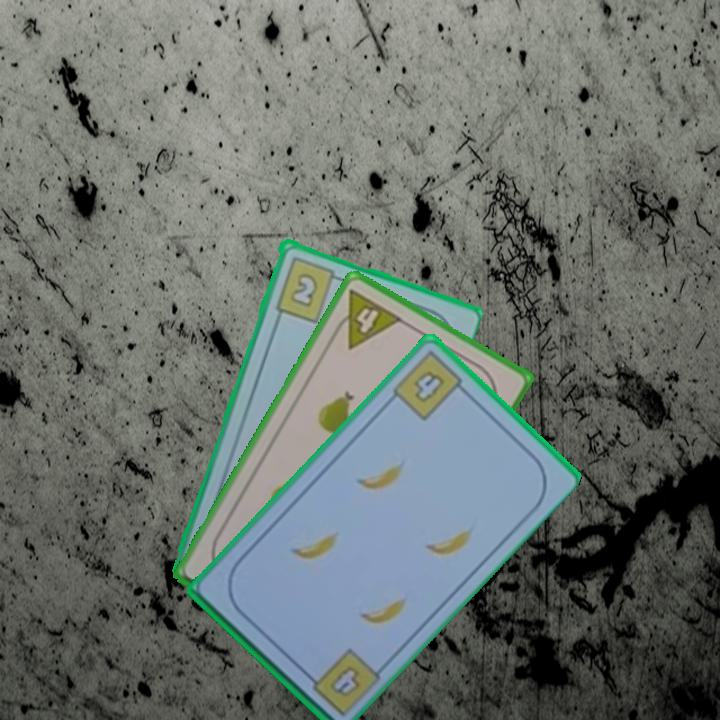2b: (271, 252, 346, 325)
4b: (389, 347, 471, 423), (326, 661, 363, 699)
4p: (326, 285, 405, 352)
